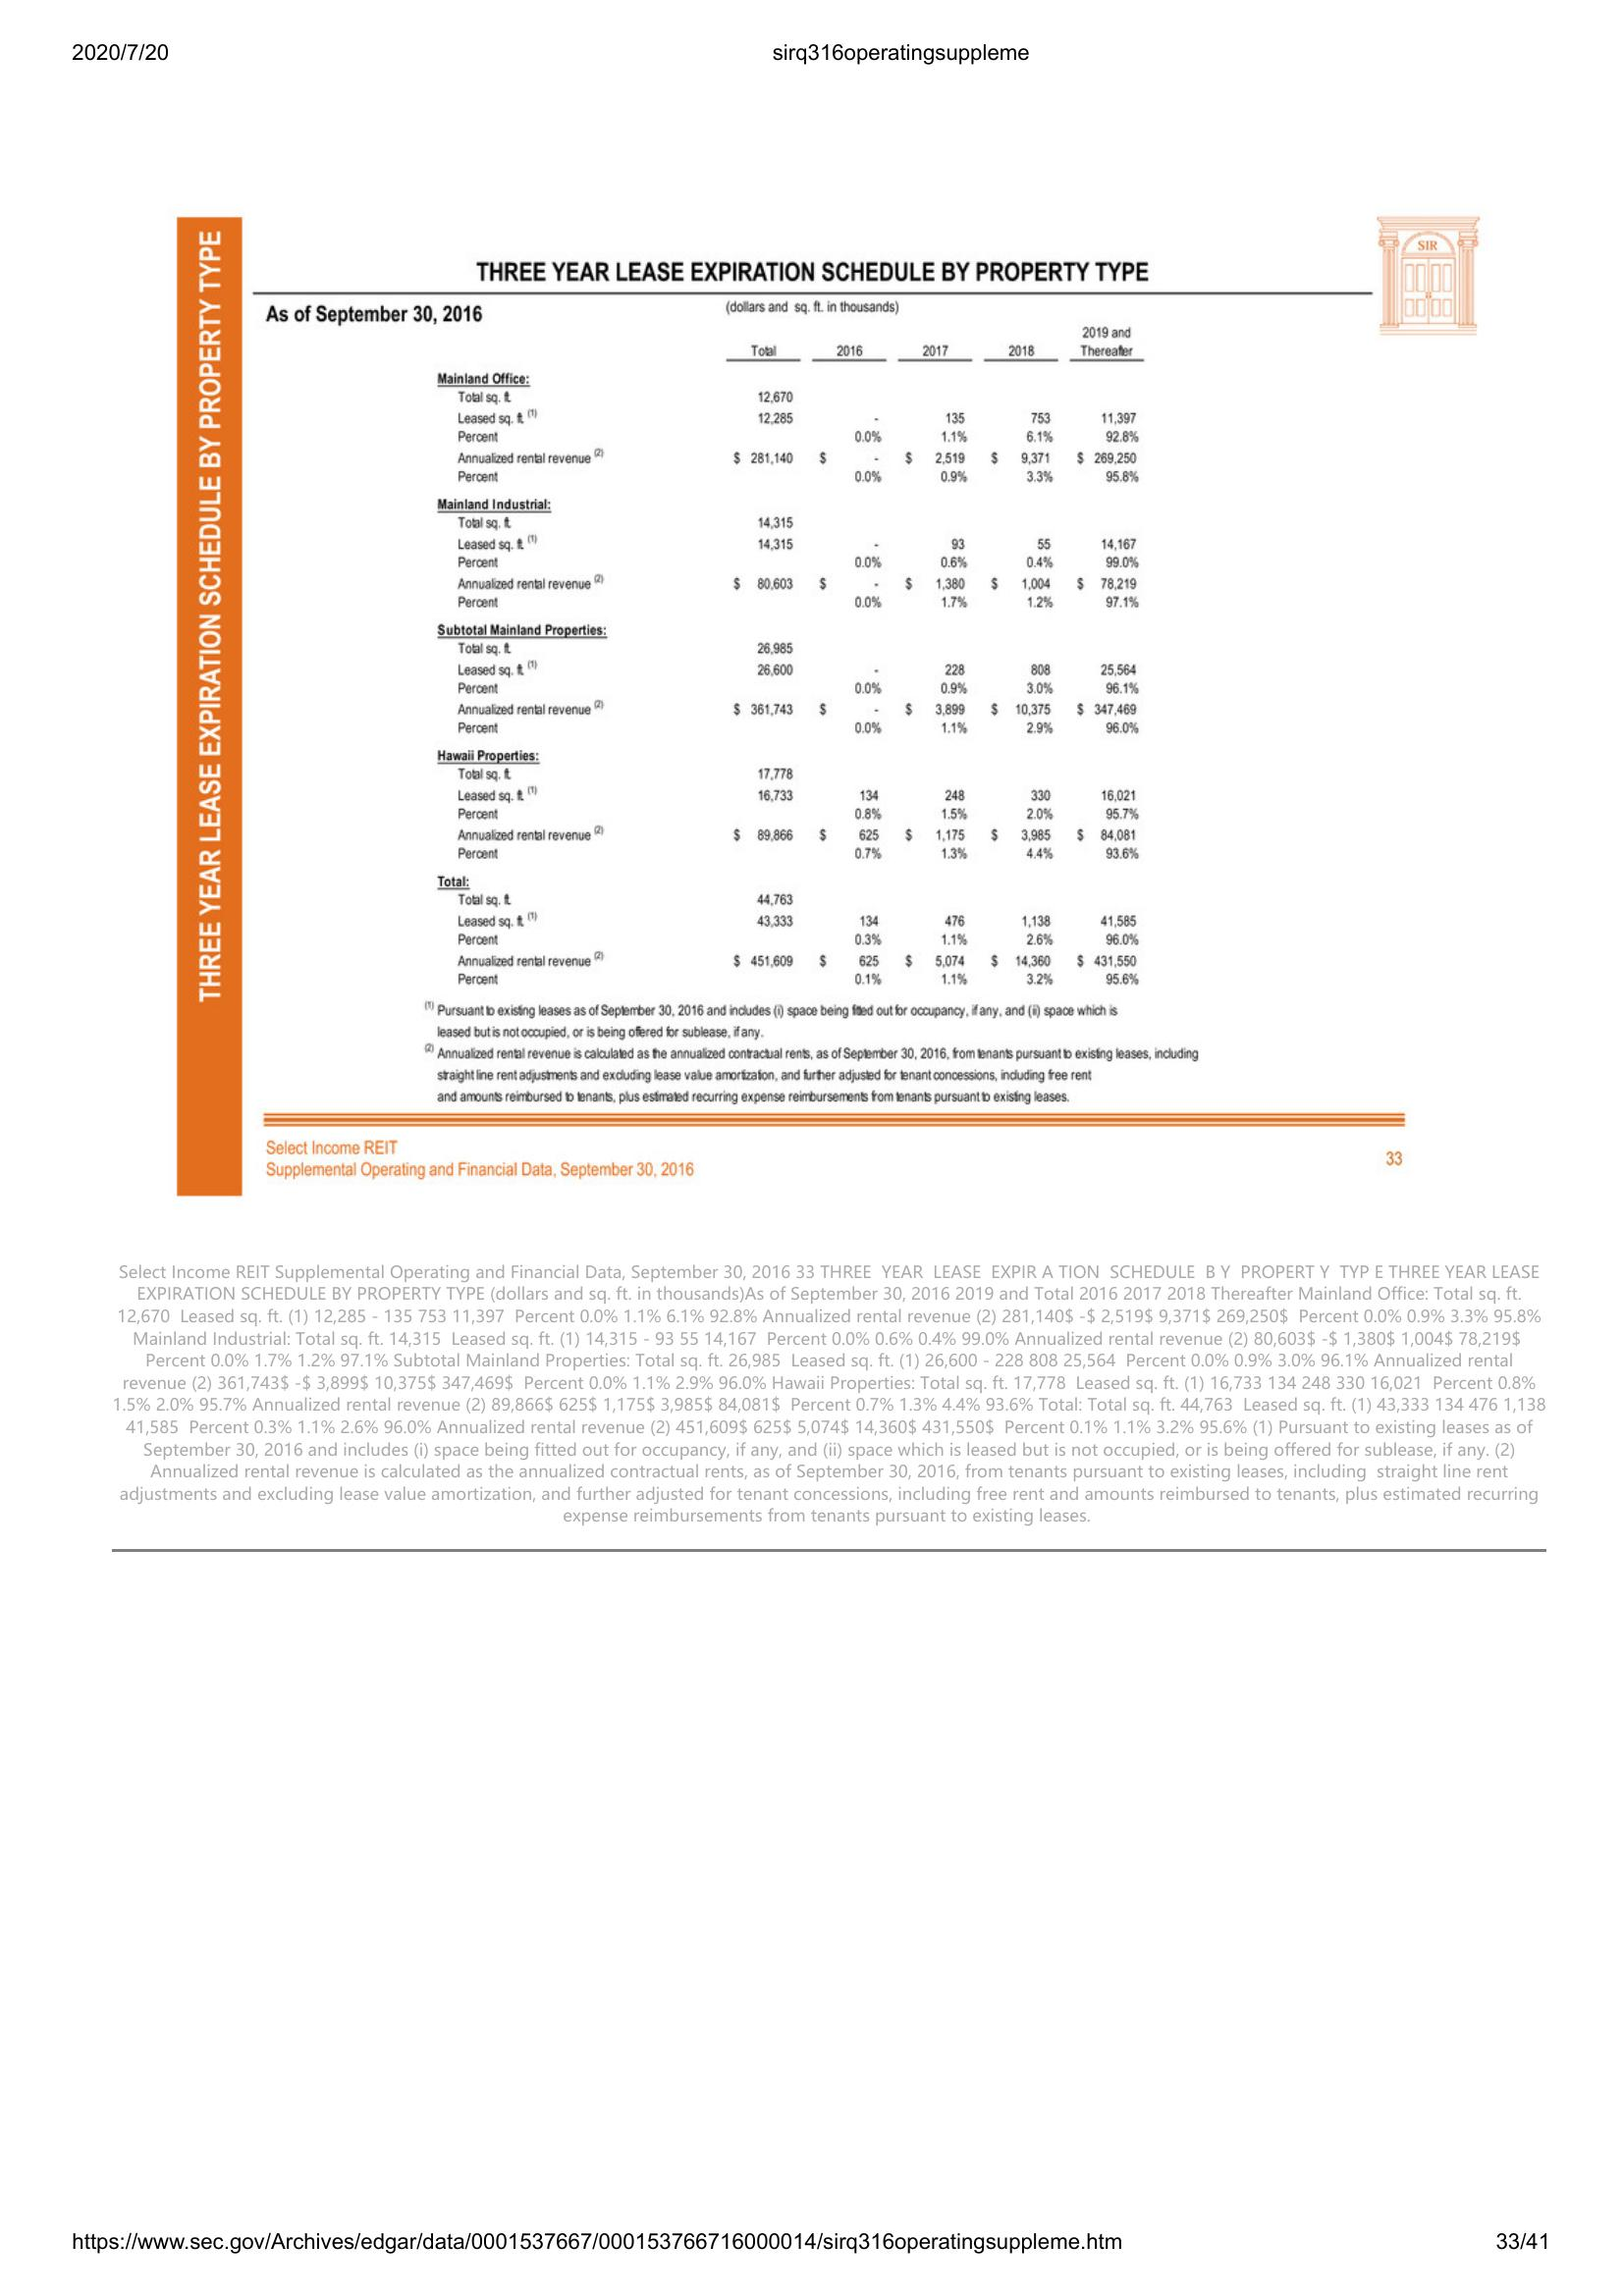table: (422, 325, 1151, 997)
